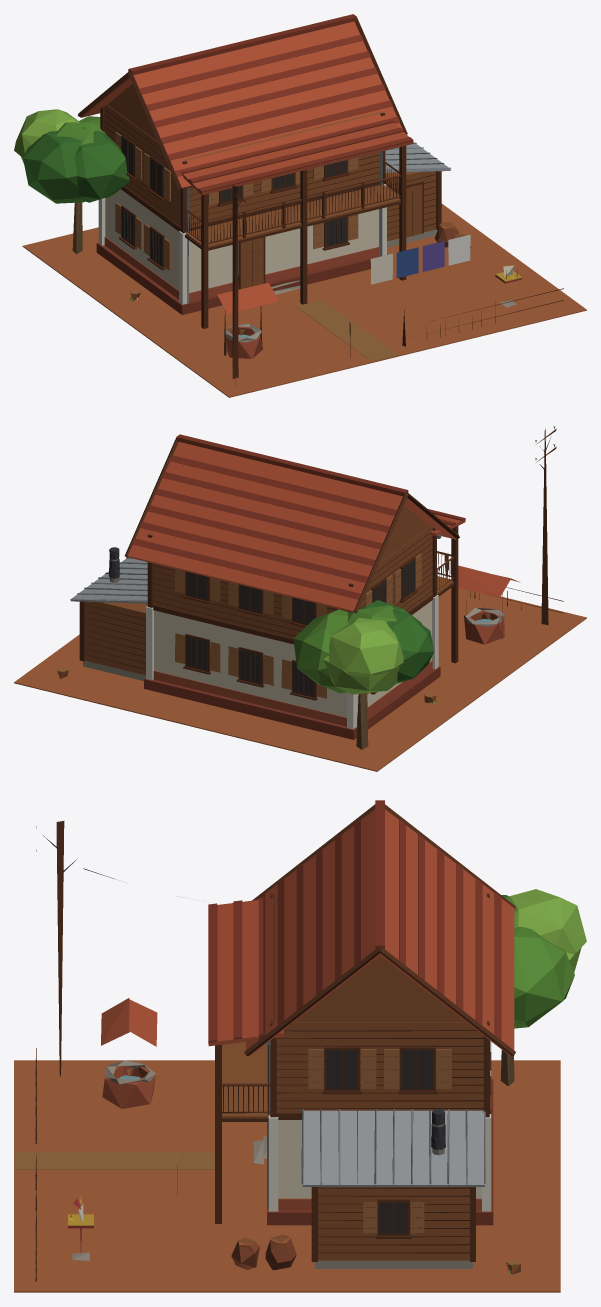
File: home_3.glb
3 views of the same model, one above another, from view 1: azimuth 30°, elevation 25°; view 2: azimuth 150°, elevation 25°; view 3: azimuth 270°, elevation 25° (orthographic). The views are drawn at different scales.
Visible parts, largest first — view 1: body, windows; view 2: body, windows; view 3: body, windows.
Part boxes in pixels (x1,y1,x2,y2): body: (14,14,586,397); windows: (122,137,346,265); body: (14,426,586,771); windows: (187,559,414,695); body: (14,800,586,1292); windows: (326,1050,433,1233).
Size of the model in its own units: 16.82 by 9.4 by 16.67.
